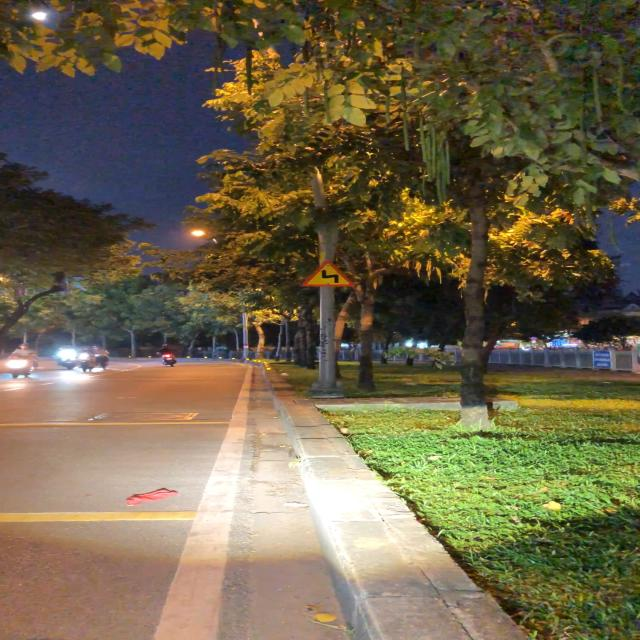Bien bao nhieu cho ngoat nguy hiem lien tiep: (298, 259, 359, 289)
